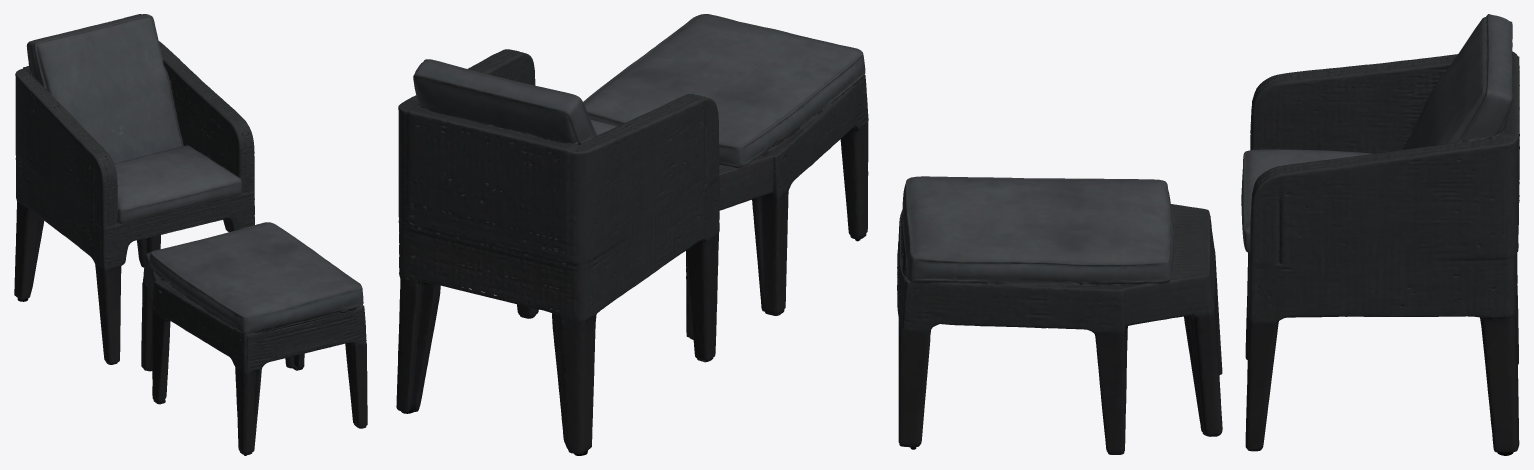
Rendered from garden_stool.glb.
3 renders of one model, left to right at view 1: azimuth 30°, elevation 25°; view 2: azimuth 150°, elevation 25°; view 3: azimuth 270°, elevation 25°, orthographic. The views are drawn at different scales.
Parts seen in each view (by area): view 1: geometry_0; view 2: geometry_0; view 3: geometry_0.
Part boxes in pixels (x1,y1,x2,y2): geometry_0: (14, 14, 367, 455); geometry_0: (396, 14, 868, 455); geometry_0: (897, 14, 1519, 455).
Size of the model in its own units: 0.3902 by 0.6381 by 1.
1 material, 1 textured.
